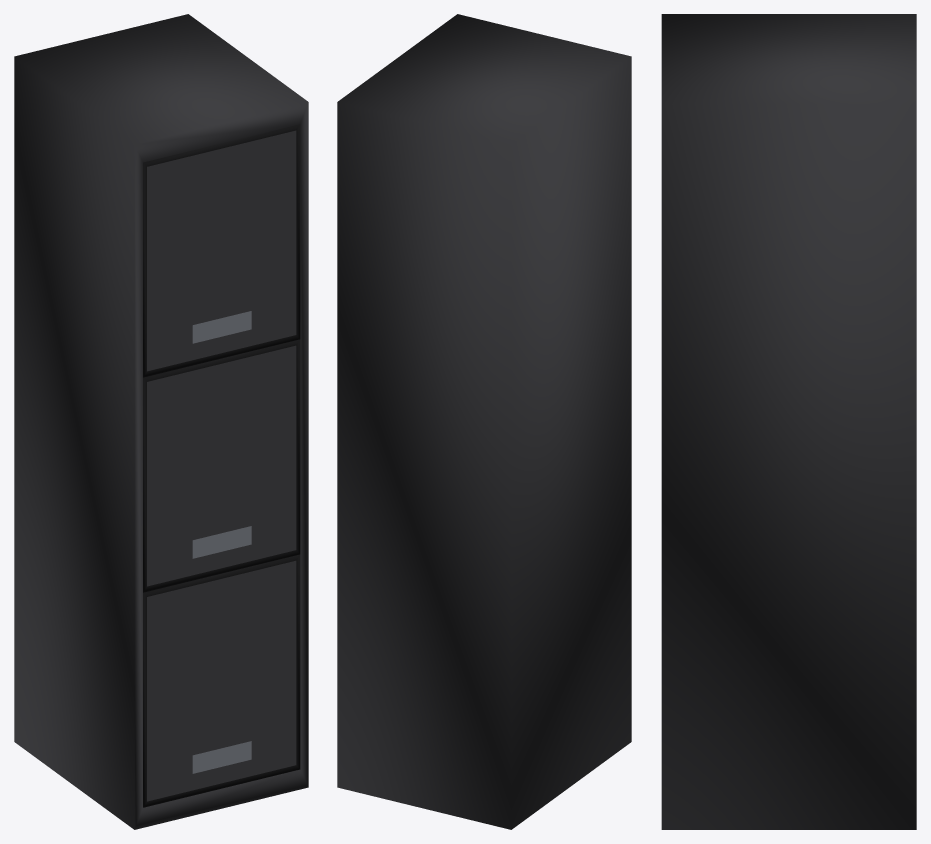
File: fillingcabinet-v16.fbx
The picture shows the model from 3 angles, left to right: view 1: azimuth 30°, elevation 25°; view 2: azimuth 150°, elevation 25°; view 3: azimuth 270°, elevation 25°; orthographic projection. The views are drawn at different scales.
Parts seen in each view (by area): view 1: Body, D3, D1, D2; view 2: Body; view 3: Body.
Part boxes in pixels (x1=…): Body: x1=14, y1=14, x2=308, y2=829; D3: x1=143, y1=554, x2=300, y2=807; D1: x1=143, y1=124, x2=300, y2=377; D2: x1=143, y1=339, x2=300, y2=592; Body: x1=337, y1=14, x2=631, y2=829; Body: x1=661, y1=14, x2=916, y2=829.
Size of the model in its own units: 48.3 by 182 by 58.04.
